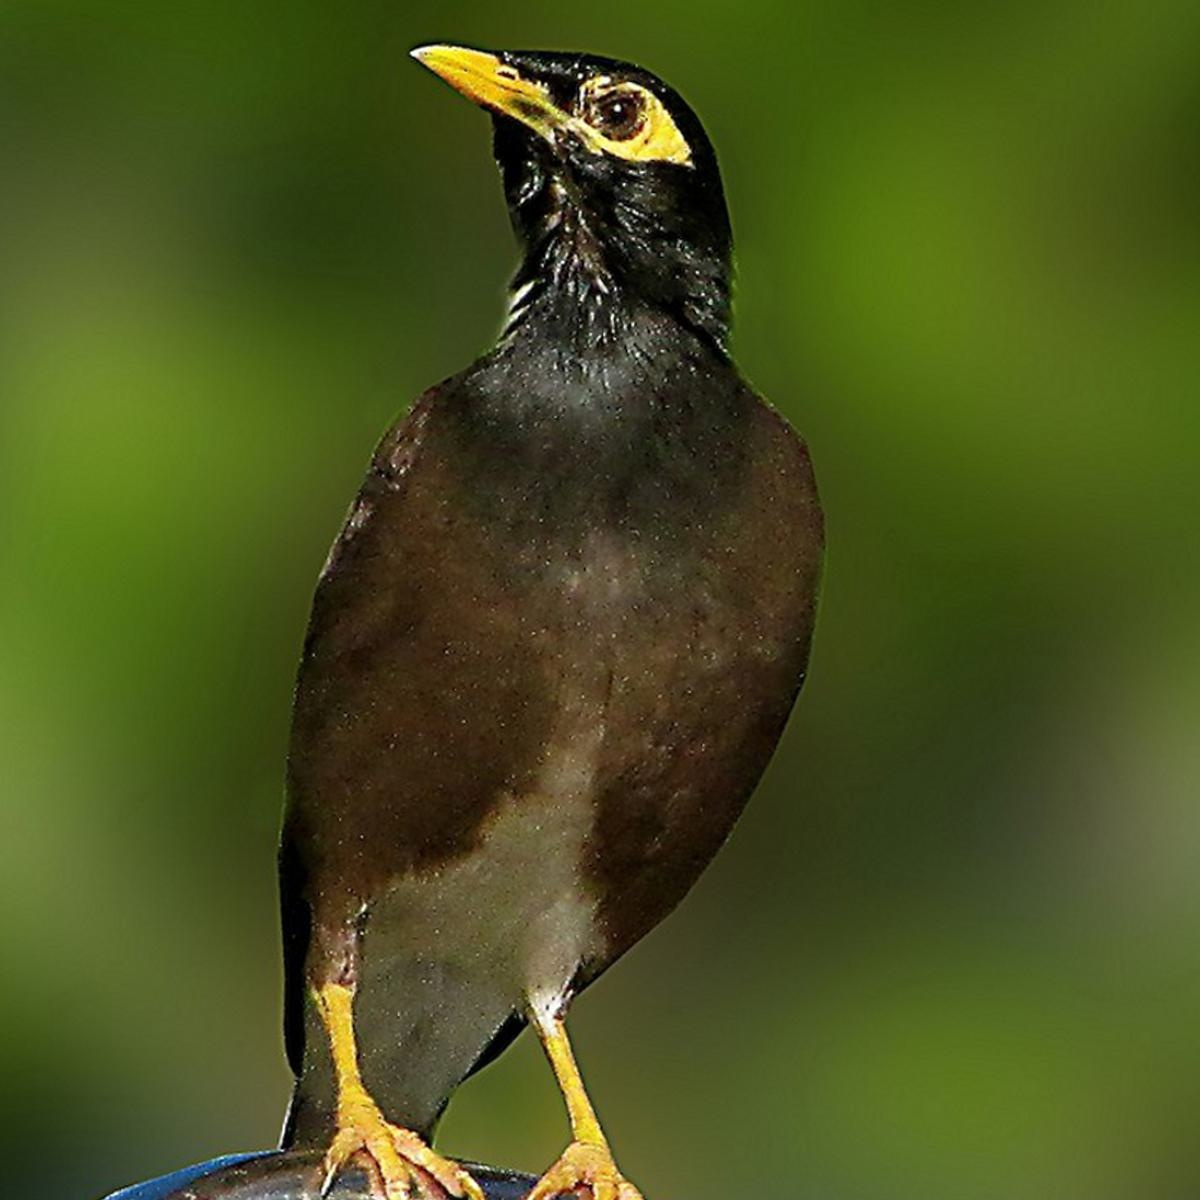myna: (349, 35, 912, 1200)
